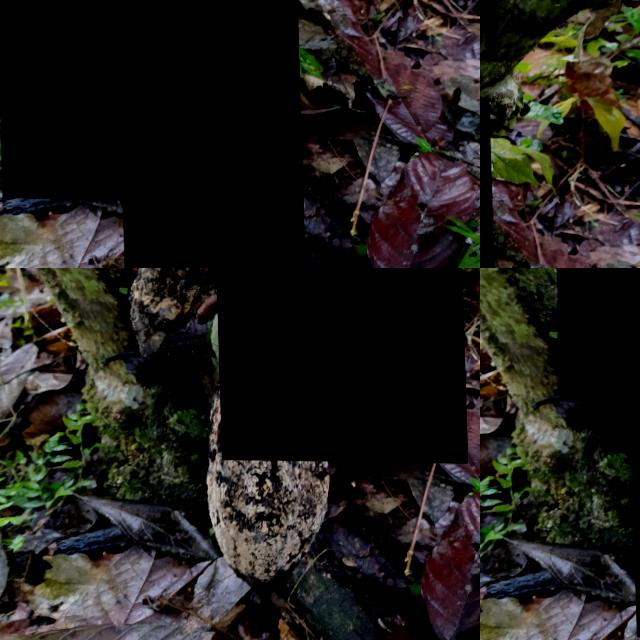Fitoftora: (552, 268, 640, 402)
Monilia: (113, 0, 301, 268)
Sana: (212, 268, 465, 461), (0, 0, 181, 199)
